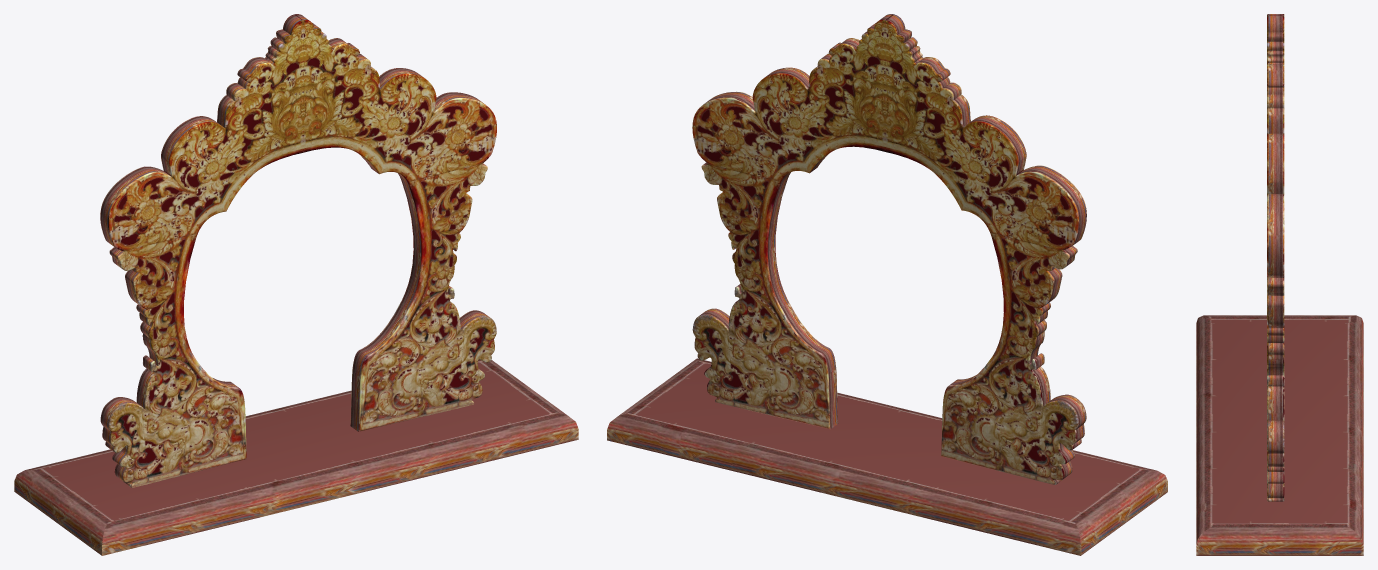
File: kempur textur 1.fbx
The picture shows the model from 3 angles, left to right: view 1: azimuth 30°, elevation 25°; view 2: azimuth 150°, elevation 25°; view 3: azimuth 270°, elevation 25°; orthographic projection. The views are drawn at different scales.
Parts seen in each view (by area): view 1: Extrude, Cube; view 2: Extrude, Cube; view 3: Cube, Extrude.
Part boxes in pixels (box(x1,y1,x2,y2)): Extrude: box(100, 14, 496, 487); Cube: box(14, 359, 578, 555); Extrude: box(692, 14, 1086, 484); Cube: box(607, 358, 1167, 555); Cube: box(1196, 315, 1363, 555); Extrude: box(1267, 14, 1284, 501).
Bounding box in the file's own units: 367 × 331 × 117.
2 materials, 2 textured.
